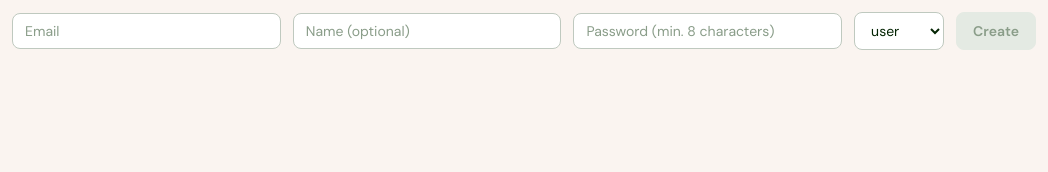
Test case: CreateUserForm › keeps Create disabled until an email and a password are present
Expected: the button "Create" is disabled, [956, 12, 1036, 50]
Type "a@x.io" into the field with placeholder "Email" at (146,31), box [12, 13, 281, 49]
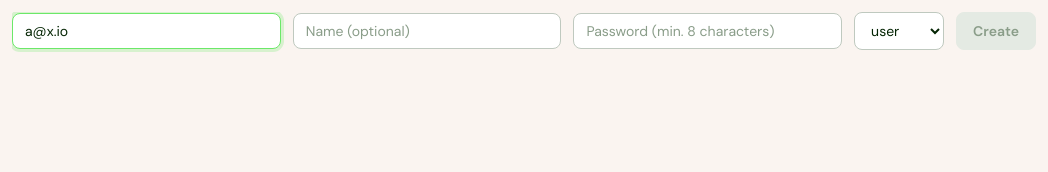
Expected: the button "Create" is disabled, [956, 12, 1036, 50]
Type "secret-password" into the password field with placeholder "Password (min. 8 characters)" at (708,31), box [573, 13, 842, 49]
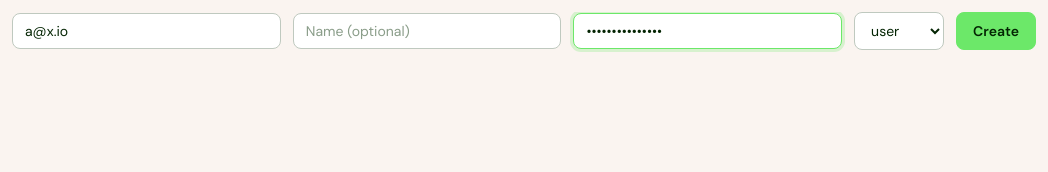
Expected: the button "Create" is enabled, [956, 12, 1036, 50]
